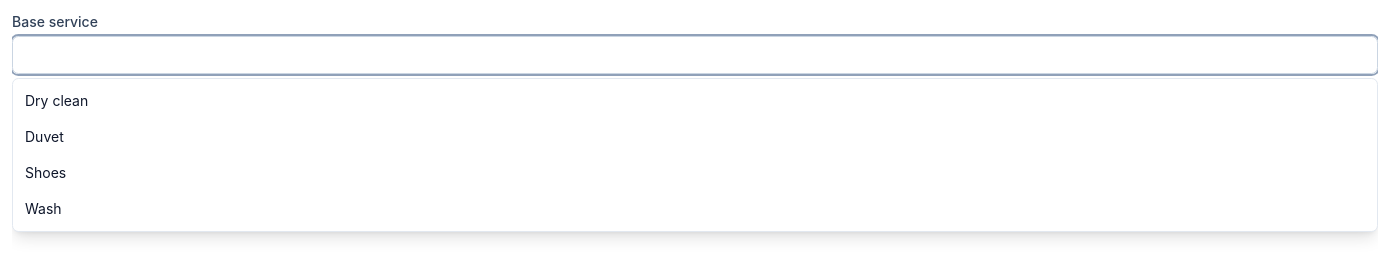
Test: LaundryServicesEditor › case 7: an invalid count › "" shows the error after blur and keeps the count input
Expected: the dropdown with id "laundry-base-service" is shown, [12, 36, 1378, 74]
Click the option "Shoes" at (46, 172), box [25, 164, 66, 181]
Wait 900 ms
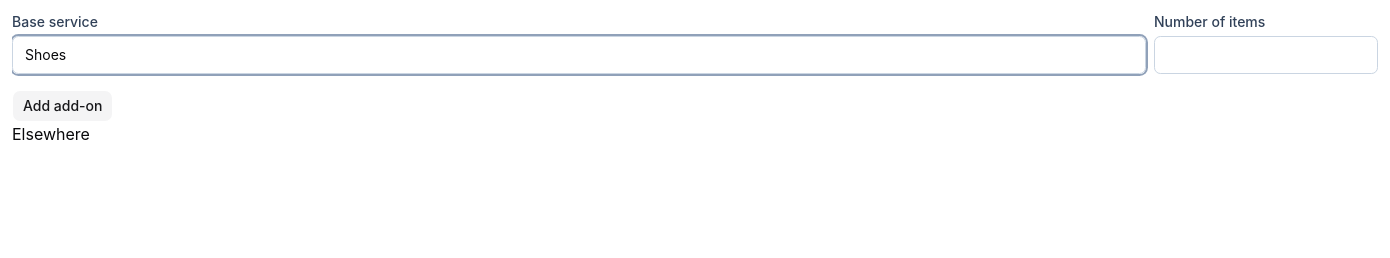
Expected: the field with id "laundry-base-count" is shown
Clear the field with id "laundry-base-count" at (1266, 55), box [1154, 36, 1378, 74]
Wait 600 ms
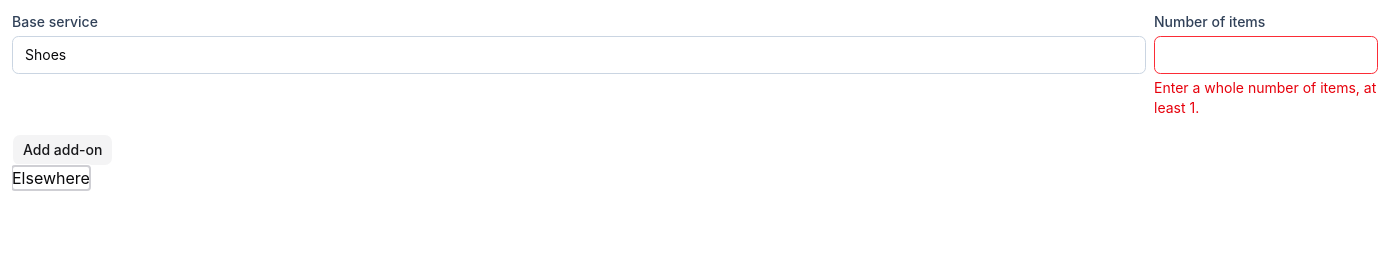
Expected: the button "Elsewhere" is shown, [12, 166, 90, 190]
Expected: the text "Enter a whole number of items, at least 1." is shown, [1154, 78, 1378, 118]
